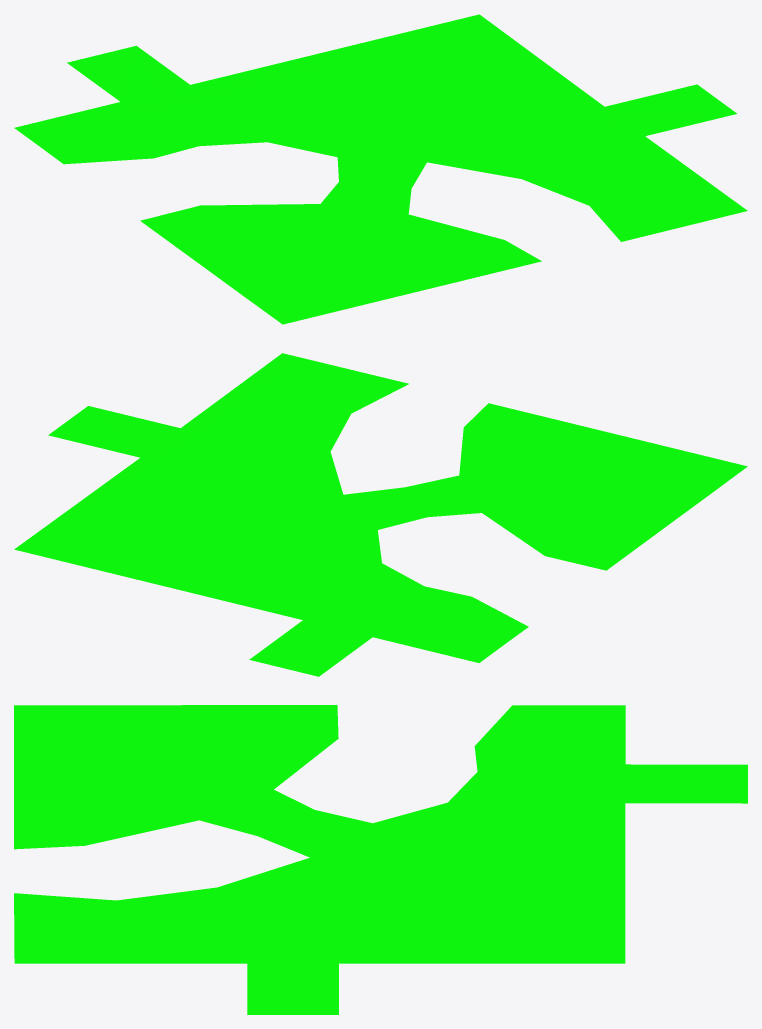
The model's file is s04a_lc2-floor.glb.
The picture shows the model from 3 angles, top to bottom: view 1: azimuth 30°, elevation 25°; view 2: azimuth 150°, elevation 25°; view 3: azimuth 270°, elevation 25°; orthographic projection. The views are drawn at different scales.
Visible parts, largest first — view 1: collision_floor-colonly; view 2: collision_floor-colonly; view 3: collision_floor-colonly.
Boxes of the visible parts, x1,y1,x2,y2 form: collision_floor-colonly: (14, 14, 747, 324); collision_floor-colonly: (14, 353, 747, 676); collision_floor-colonly: (14, 705, 747, 1014).
Bounding box in the file's own units: 47.95 × 0.0234 × 48.02.
